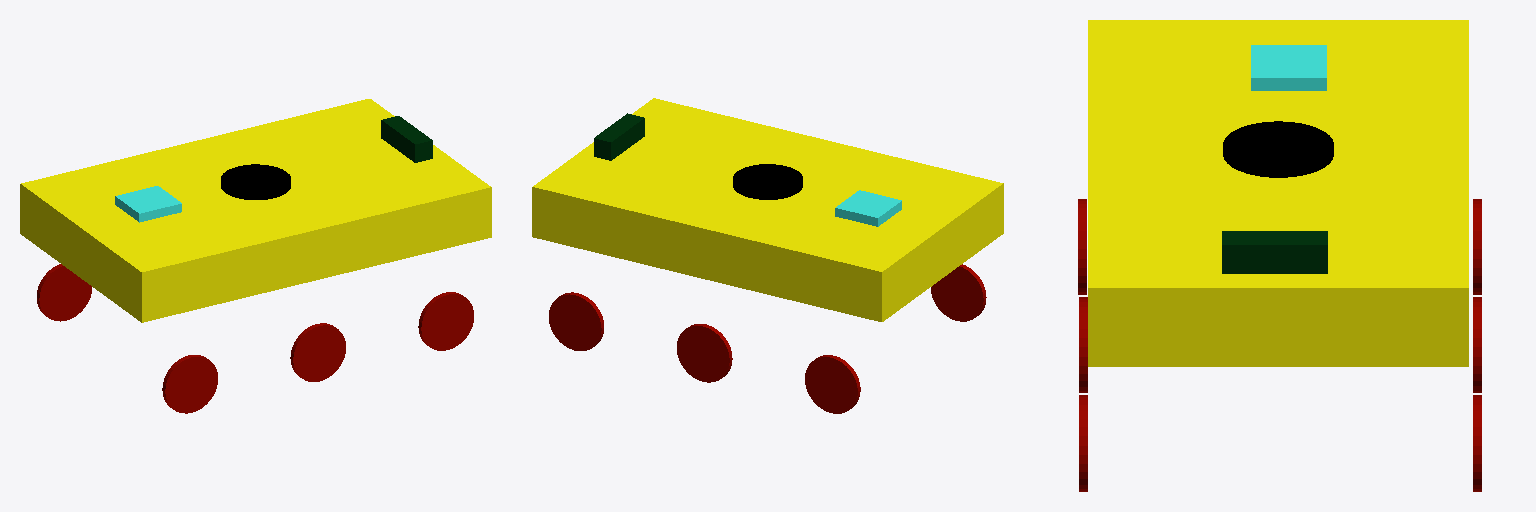
robot.urdf — HMS_Perception:
<?xml version="1.0"?>
<robot name="HMS_Perception">
  <link name="base_footprint"></link>
  <joint name="base_joint" type="fixed">
    <parent link="base_footprint" />
    <child link="base_link" />
    <origin xyz="0.000047751989472821776 0 1.5" rpy="0 0 0" />
  </joint>
  <link name="base_link">
    <visual>
      <origin xyz="0 0 0" rpy="0 0 0" />
      <geometry>
        <box size="3.794 2.28 0.523" />
      </geometry>
      <material name="base_link-material">
        <color rgba="1 0.9734452903978066 0.05286064701616471 1" />
      </material>
    </visual>
    <collision>
      <origin xyz="0 0 0" rpy="0 0 0" />
      <geometry>
        <box size="3.7939062066566853 2.2800234239081933 0.5232328098292442" />
      </geometry>
    </collision>
    <inertial>
      <origin xyz="0 0 0" rpy="0 0 0" />
      <mass value="1" />
      <inertia ixx="0.16666666666666666" ixy="0" ixz="0" iyy="0.16666666666666666" iyz="0" izz="0.16666666666666666" />
    </inertial>
  </link>
  <joint name="base_link_to_lidar" type="fixed">
    <parent link="base_link" />
    <child link="lidar" />
    <origin xyz="0 0 0.2569669071788341" rpy="0 0 0" />
  </joint>
  <link name="lidar">
    <visual>
      <origin xyz="0 0 0" rpy="0 0 0" />
      <geometry>
        <cylinder radius="0.333099402958804" length="0.13538975482266932" />
      </geometry>
      <material name="lidar-material">
        <color rgba="0 0 0 1" />
      </material>
    </visual>
    <collision>
      <origin xyz="0 0 0" rpy="0 0 0" />
      <geometry>
        <cylinder radius="0.333099402958804" length="0.13538975482266932" />
      </geometry>
    </collision>
    <inertial>
      <origin xyz="0 0 0" rpy="0 0 0" />
      <mass value="1" />
      <inertia ixx="0.3333333333333333" ixy="0" ixz="0" iyy="0.5" iyz="0" izz="0.3333333333333333" />
    </inertial>

        <sensor type="lidar" name="lidar">
            <always_on>true</always_on>
            <update_rate>5</update_rate>
            <origin>0 0 0.2569669071788341 0 0 0</origin>
            <ray>
                <scan>
                    <horizontal>
                        <samples>360</samples>
                        <resolution>1</resolution>
                        <min_angle>0</min_angle>
                        <max_angle>6.28</max_angle>
                    </horizontal>
                    <range>
                        <min>0.12</min>
                        <max>3.5</max>
                        <resolution>0.015</resolution>
                    </range>
                </scan>
                <noise>
                    <type>gaussian</type>
                    <mean>0</mean>
                    <stddev>0.01</stddev>
                </noise>
            </ray>
        </sensor>
      </link>
  <joint name="base_link_to_wheel_4" type="continuous">
    <parent link="base_link" />
    <child link="wheel_4" />
    <origin xyz="-1.39 1.1909017501403918 -1" rpy="1.5707963267948963 0 0" />
    <axis xyz="0 0 1"/>
  </joint>
  <link name="wheel_4">
    <visual>
      <origin xyz="0 0 0" rpy="0 0 0" />
      <geometry>
        <cylinder radius="0.2879384563584746" length="0.05383527298985801" />
      </geometry>
      <material name="wheel_4-material">
        <color rgba="0.6375968739867731 0.04373502925049377 0.008023192982520563 1" />
      </material>
    </visual>
    <collision>
      <origin xyz="0 0 0" rpy="0 0 0" />
      <geometry>
        <cylinder radius="0.2879384563584746" length="0.05383527298985801" />
      </geometry>
    </collision>
    <inertial>
      <origin xyz="0 0 0" rpy="0 0 0" />
      <mass value="1" />
      <inertia ixx="0.3333333333333333" ixy="0" ixz="0" iyy="0.5" iyz="0" izz="0.3333333333333333" />
    </inertial>
  </link>
  <joint name="base_link_to_camera" type="fixed">
    <parent link="base_link" />
    <child link="camera" />
    <origin xyz="1.6256258584357346 -0.02298885073006307 0.3695319117946291" rpy="0 0 0" />
  </joint>
  <link name="camera">
    <visual>
      <origin xyz="0 0 0" rpy="0 0 0" />
      <geometry>
        <box size="0.1914947774659249 0.6346109922118176 0.19215263167384591" />
      </geometry>
      <material name="camera-material">
        <color rgba="0.015996293361446288 0.22696587349938613 0.07036009568874305 1" />
      </material>
    </visual>
    <collision>
      <origin xyz="0 0 0" rpy="0 0 0" />
      <geometry>
        <box size="0.1914947774659249 0.6346109922118176 0.19215263167384591" />
      </geometry>
    </collision>
    <inertial>
      <origin xyz="0 0 0" rpy="0 0 0" />
      <mass value="1" />
      <inertia ixx="0.16666666666666666" ixy="0" ixz="0" iyy="0.16666666666666666" iyz="0" izz="0.16666666666666666" />
    </inertial>

        <sensor name="front_camera" type="camera">
            <always_on>true</always_on>
            <update_rate>100</update_rate>
            <origin>1.6256258584357346 -0.02298885073006307 0.3695319117946291 0 0 0</origin>
            <camera>
                <horizontal_fov>1.3962634</horizontal_fov>
                <image>
                    <width>800</width>
                    <height>600</height>
                    <format>R8G8B8</format>
                </image>
                <clip>
                    <near>0.1</near>
                    <far>100</far>
                </clip>
                <noise>
                    <type>gaussian</type>
                    <mean>0.01</mean>
                </noise>
            </camera>
        </sensor>
      </link>
  <joint name="base_link_to_imu_sensor" type="fixed">
    <parent link="base_link" />
    <child link="imu_sensor" />
    <origin xyz="-1.1282184172017464 0.06064584319013511 0.17904669409114127" rpy="0 0 0" />
  </joint>
  <link name="imu_sensor">
    <visual>
      <origin xyz="0 0 0" rpy="0 0 0" />
      <geometry>
        <box size="0.46603382719539876 0.45619487184483365 0.3454197767248413" />
      </geometry>
      <material name="imu_sensor-material">
        <color rgba="0.2874408377161099 0.9559733532482866 0.913098651791473 1" />
      </material>
    </visual>
    <collision>
      <origin xyz="0 0 0" rpy="0 0 0" />
      <geometry>
        <box size="0.46603382719539876 0.45619487184483365 0.3454197767248413" />
      </geometry>
    </collision>
    <inertial>
      <origin xyz="0 0 0" rpy="0 0 0" />
      <mass value="1" />
      <inertia ixx="0.16666666666666666" ixy="0" ixz="0" iyy="0.16666666666666666" iyz="0" izz="0.16666666666666666" />
    </inertial>

        <sensor type="imu" name="imu">
            <always_on>true</always_on>
            <update_rate>100</update_rate>
            <origin>-1.1282184172017464 0.06064584319013511 0.17904669409114127 0 0 0</origin>
            <imu>
                <noise>
                    <type>gaussian</type>
                    <mean>0</mean>
                    <stddev>0</stddev>
                </noise>
            </imu>
        </sensor>
      </link>
  <joint name="base_link_to_wheel_5" type="continuous">
    <parent link="base_link" />
    <child link="wheel_5" />
    <origin xyz="-1.39 -1.1736814480844906 -1" rpy="1.5707963267948963 0 0" />
    <axis xyz="0 0 1"/>
  </joint>
  <link name="wheel_5">
    <visual>
      <origin xyz="0 0 0" rpy="0 0 0" />
      <geometry>
        <cylinder radius="0.2879384563584746" length="0.05383527298985801" />
      </geometry>
      <material name="wheel_5-material">
        <color rgba="0.6375968739867731 0.04373502925049377 0.008023192982520563 1" />
      </material>
    </visual>
    <collision>
      <origin xyz="0 0 0" rpy="0 0 0" />
      <geometry>
        <cylinder radius="0.2879384563584746" length="0.05383527298985801" />
      </geometry>
    </collision>
    <inertial>
      <origin xyz="0 0 0" rpy="0 0 0" />
      <mass value="1" />
      <inertia ixx="0.3333333333333333" ixy="0" ixz="0" iyy="0.5" iyz="0" izz="0.3333333333333333" />
    </inertial>
  </link>
  <joint name="base_link_to_wheel_3" type="continuous">
    <parent link="base_link" />
    <child link="wheel_3" />
    <origin xyz="0.0005487795717144736 -1.1705640351243605 -1" rpy="1.5707963267948963 0 0" />
    <axis xyz="0 0 1"/>
  </joint>
  <link name="wheel_3">
    <visual>
      <origin xyz="0 0 0" rpy="0 0 0" />
      <geometry>
        <cylinder radius="0.2879384563584746" length="0.05383527298985801" />
      </geometry>
      <material name="wheel_3-material">
        <color rgba="0.6375968739867731 0.04373502925049377 0.008023192982520563 1" />
      </material>
    </visual>
    <collision>
      <origin xyz="0 0 0" rpy="0 0 0" />
      <geometry>
        <cylinder radius="0.2879384563584746" length="0.05383527298985801" />
      </geometry>
    </collision>
    <inertial>
      <origin xyz="0 0 0" rpy="0 0 0" />
      <mass value="1" />
      <inertia ixx="0.3333333333333333" ixy="0" ixz="0" iyy="0.5" iyz="0" izz="0.3333333333333333" />
    </inertial>
  </link>
  <joint name="base_link_to_wheel_2" type="continuous">
    <parent link="base_link" />
    <child link="wheel_2" />
    <origin xyz="0 1.1909017501403918 -1" rpy="1.5707963267948963 0 0" />
    <axis xyz="0 0 1"/>
  </joint>
  <link name="wheel_2">
    <visual>
      <origin xyz="0 0 0" rpy="0 0 0" />
      <geometry>
        <cylinder radius="0.2879384563584746" length="0.05383527298985801" />
      </geometry>
      <material name="wheel_2-material">
        <color rgba="0.6375968739867731 0.04373502925049377 0.008023192982520563 1" />
      </material>
    </visual>
    <collision>
      <origin xyz="0 0 0" rpy="0 0 0" />
      <geometry>
        <cylinder radius="0.2879384563584746" length="0.05383527298985801" />
      </geometry>
    </collision>
    <inertial>
      <origin xyz="0 0 0" rpy="0 0 0" />
      <mass value="1" />
      <inertia ixx="0.3333333333333333" ixy="0" ixz="0" iyy="0.5" iyz="0" izz="0.3333333333333333" />
    </inertial>
  </link>
  <joint name="base_link_to_wheel_1" type="continuous">
    <parent link="base_link" />
    <child link="wheel_1" />
    <origin xyz="1.39 -1.17 -1" rpy="1.5707963267948963 0 0" />
    <axis xyz="0 0 1"/>
  </joint>
  <link name="wheel_1">
    <visual>
      <origin xyz="0 0 0" rpy="0 0 0" />
      <geometry>
        <cylinder radius="0.2879384563584746" length="0.05383527298985801" />
      </geometry>
      <material name="wheel_1-material">
        <color rgba="0.6375968739867731 0.04373502925049377 0.008023192982520563 1" />
      </material>
    </visual>
    <collision>
      <origin xyz="0 0 0" rpy="0 0 0" />
      <geometry>
        <cylinder radius="0.2879384563584746" length="0.05383527298985801" />
      </geometry>
    </collision>
    <inertial>
      <origin xyz="0 0 0" rpy="0 0 0" />
      <mass value="1" />
      <inertia ixx="0.3333333333333333" ixy="0" ixz="0" iyy="0.5" iyz="0" izz="0.3333333333333333" />
    </inertial>
  </link>
  <joint name="base_link_to_wheel_0" type="continuous">
    <parent link="base_link" />
    <child link="wheel_0" />
    <origin xyz="1.39 1.1909017501403918 -1" rpy="1.5707963267948963 0 0" />
    <axis xyz="0 0 1"/>
  </joint>
  <link name="wheel_0">
    <visual>
      <origin xyz="0 0 0" rpy="0 0 0" />
      <geometry>
        <cylinder radius="0.2879384563584746" length="0.05383527298985801" />
      </geometry>
      <material name="wheel_0-material">
        <color rgba="0.6375968739867731 0.04373502925049377 0.008023192982520563 1" />
      </material>
    </visual>
    <collision>
      <origin xyz="0 0 0" rpy="0 0 0" />
      <geometry>
        <cylinder radius="0.2879384563584746" length="0.05383527298985801" />
      </geometry>
    </collision>
    <inertial>
      <origin xyz="0 0 0" rpy="0 0 0" />
      <mass value="1" />
      <inertia ixx="0.3333333333333333" ixy="0" ixz="0" iyy="0.5" iyz="0" izz="0.3333333333333333" />
    </inertial>
  </link>
</robot>

--- Render facts (derived) ---
The picture shows the robot from 3 angles, left to right: view 1: azimuth 30°, elevation 25°; view 2: azimuth 150°, elevation 25°; view 3: azimuth 270°, elevation 25°; orthographic projection.
Robot: HMS_Perception — 11 links, 10 joints (6 continuous, 4 fixed); root link base_footprint; default pose: all joints at 0.
Visible links, largest first — view 1: base_link, wheel_1, wheel_5, wheel_3, wheel_4, lidar, imu_sensor, camera; view 2: base_link, wheel_4, wheel_2, wheel_0, wheel_5, lidar, imu_sensor, camera; view 3: base_link, lidar, camera, imu_sensor, wheel_1, wheel_0, wheel_4, wheel_5, wheel_3, wheel_2.
Link boxes in pixels (x1,y1,x2,y2): base_link: [20, 99, 491, 322]; wheel_1: [418, 292, 473, 350]; wheel_5: [162, 355, 217, 413]; wheel_3: [290, 323, 345, 381]; wheel_4: [37, 264, 91, 321]; lidar: [221, 164, 290, 199]; imu_sensor: [115, 186, 181, 222]; camera: [381, 116, 432, 162]; base_link: [532, 98, 1003, 321]; wheel_4: [805, 355, 860, 413]; wheel_2: [677, 324, 732, 382]; wheel_0: [549, 292, 603, 350]; wheel_5: [931, 264, 986, 321]; lidar: [733, 164, 802, 199]; imu_sensor: [835, 190, 901, 226]; camera: [594, 113, 644, 160]; base_link: [1088, 20, 1468, 366]; lidar: [1223, 121, 1333, 177]; camera: [1222, 231, 1327, 273]; imu_sensor: [1251, 45, 1326, 90]; wheel_1: [1079, 395, 1087, 491]; wheel_0: [1473, 395, 1481, 491]; wheel_4: [1473, 199, 1481, 294]; wheel_5: [1078, 199, 1086, 294]; wheel_3: [1079, 297, 1087, 392]; wheel_2: [1473, 297, 1481, 392].
Bounding box of the posed robot: 3.79 × 2.42 × 1.75 m (x, y, z).
Geometry: primitives only (box / cylinder / sphere), no mesh files.
